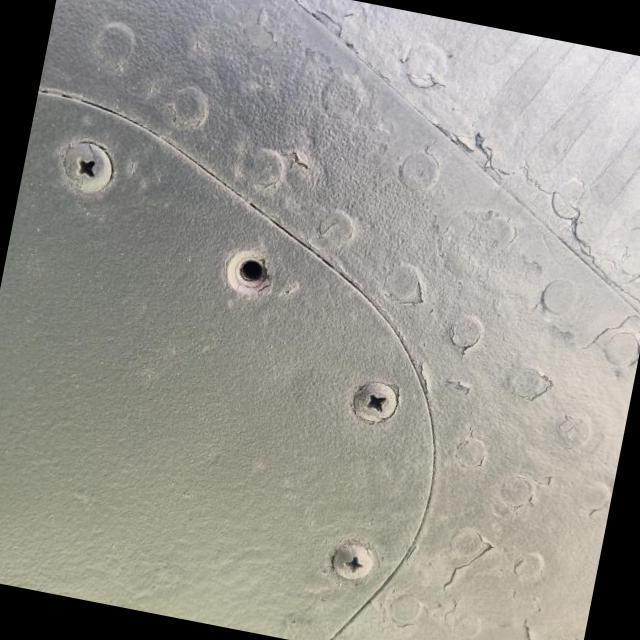Missing Fastener: (220, 249, 270, 299)
